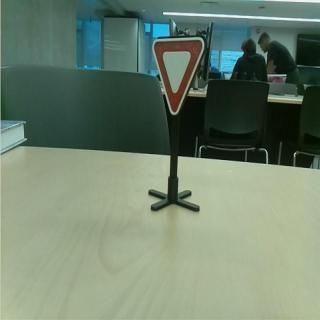sign_yield: (153, 37, 207, 117)
